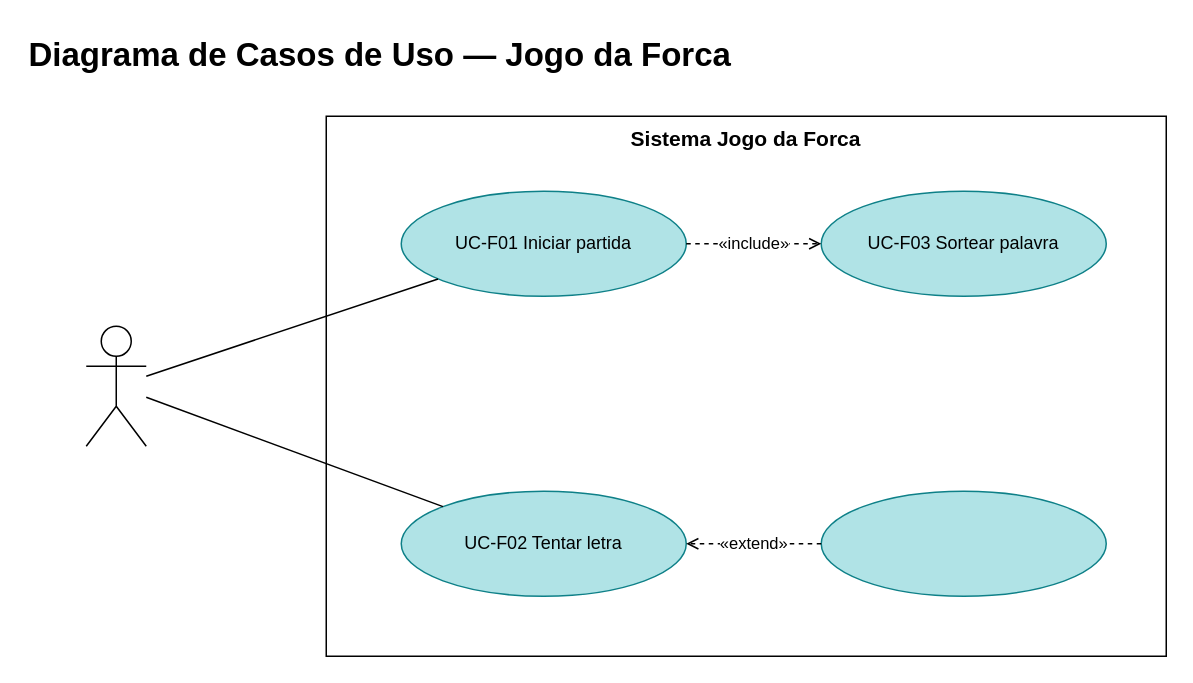
The diagram is 1193 pixels wide and 683 high, and some of its shapes have lost their labels. Here are the shapes that lost their labels. From the top down, the centre of each, then its label:
At (115,385): "Jogador".
At (963,543): "UC-F04 Exibir resultado final (vitória/derrota)".
